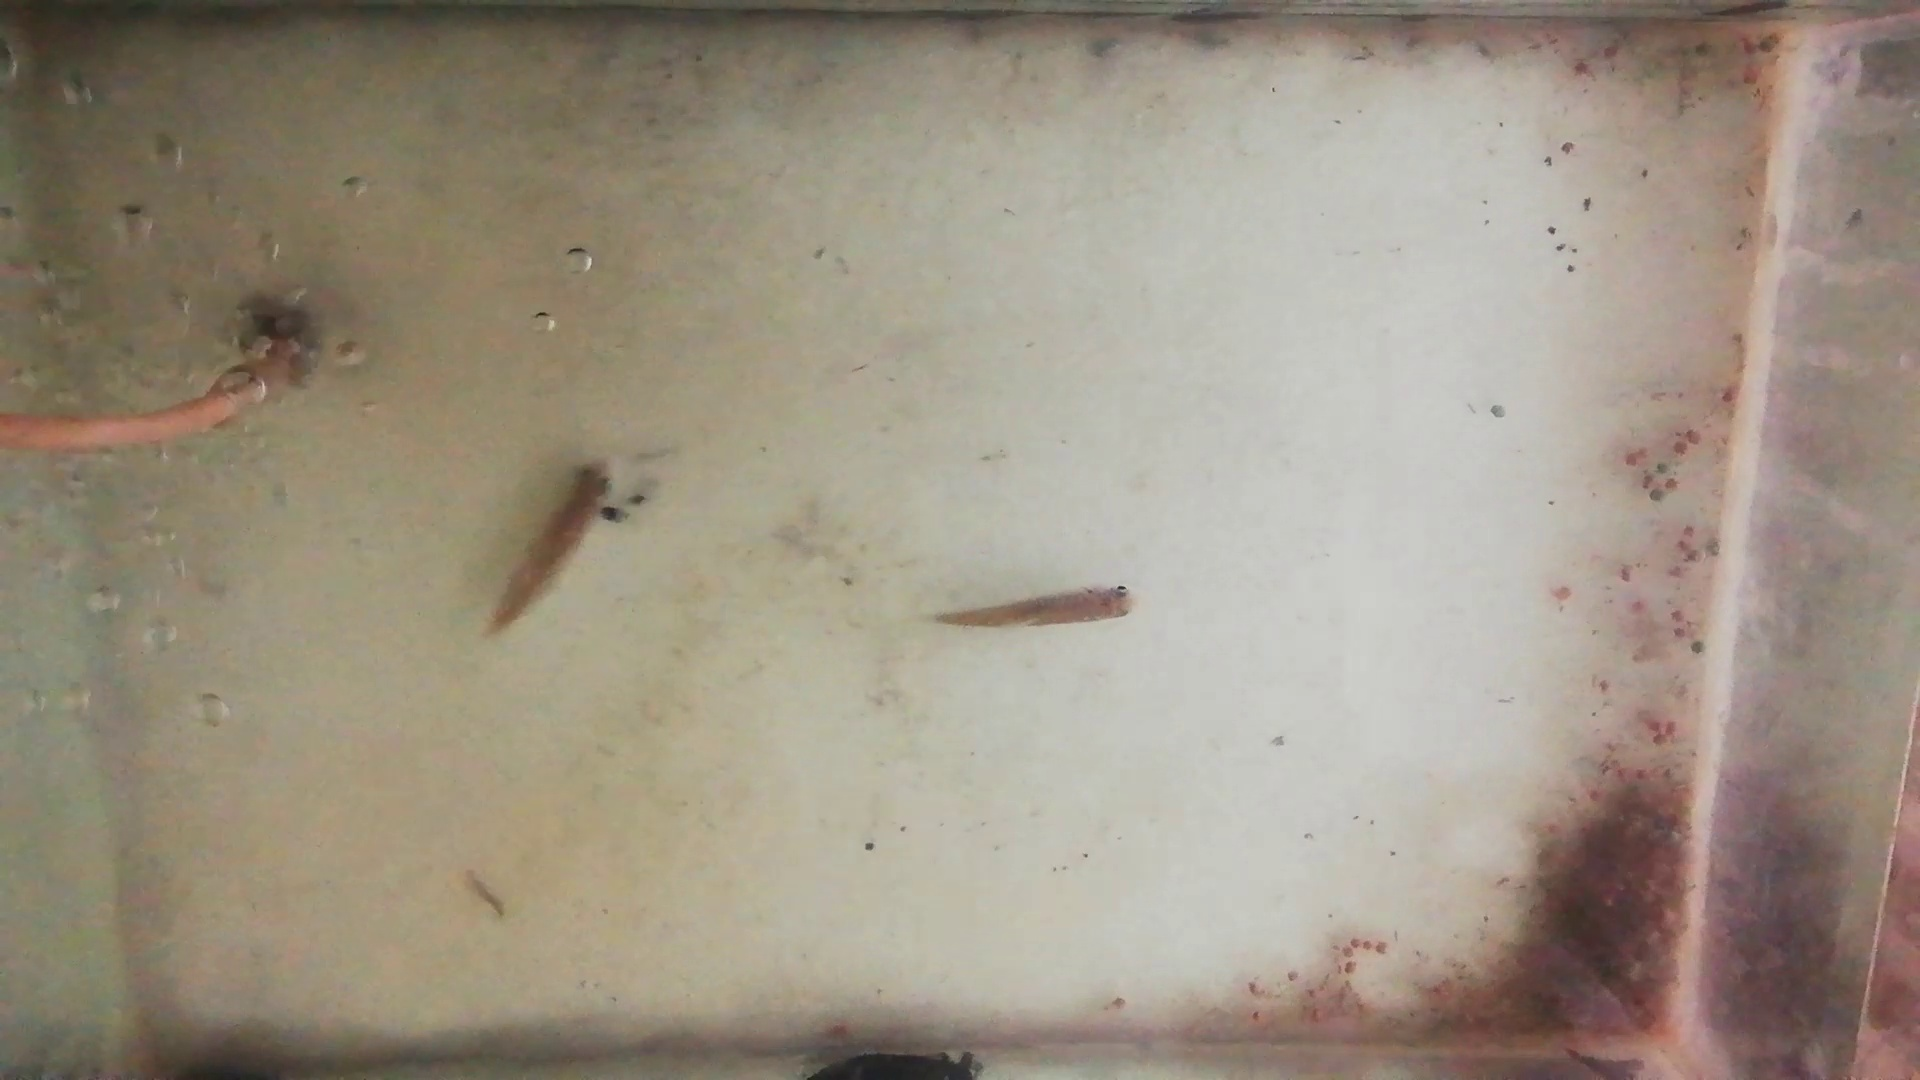fish: (485, 459, 613, 636), (934, 585, 1139, 630)
